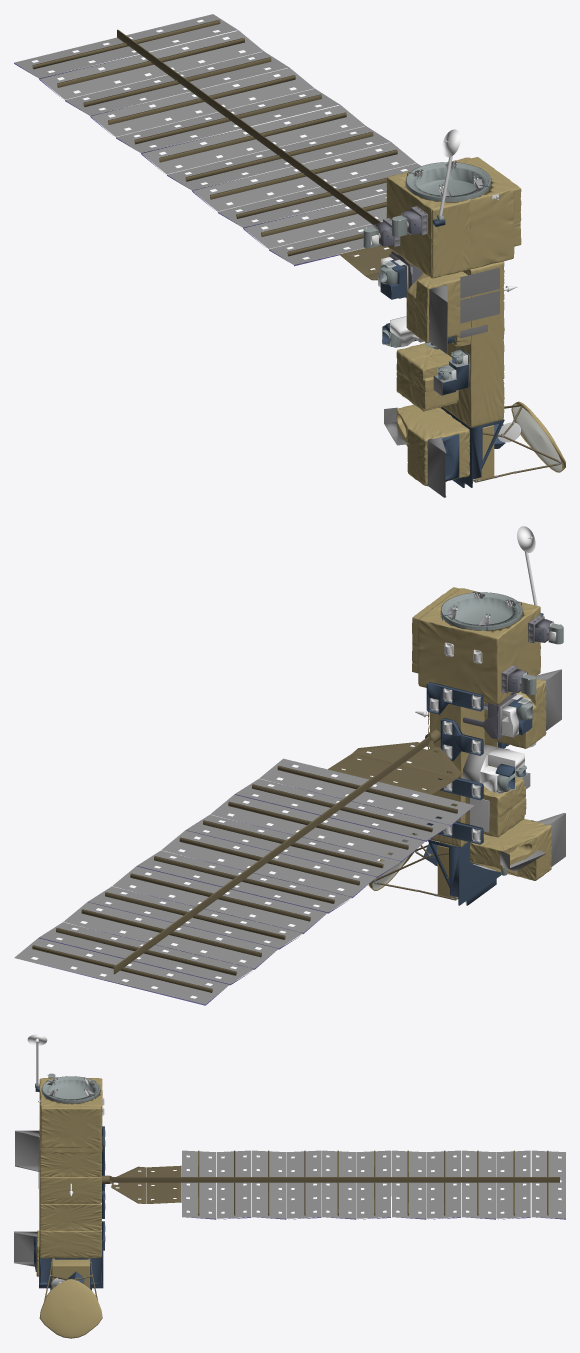
File: aqua-a.glb
The picture shows the model from 3 angles, top to bottom: view 1: azimuth 30°, elevation 25°; view 2: azimuth 150°, elevation 25°; view 3: azimuth 270°, elevation 25°; orthographic projection. The views are drawn at different scales.
Parts seen in each view (by area): view 1: Aqua_Reduced_v0014 [Aqua_Layered_02 [Layer2]], Aqua_Reduced_v0014 [Aqua_Layered_02 [Layer3]], Aqua_Reduced_v0014 [Aqua_Layered_02 [Layer22]], Aqua_Reduced_v0014 [Aqua_Layered_02 [(unnamed)]], Aqua_Reduced_v0014 [Aqua_Layered_02 [Layer10]], Aqua_Reduced_v0014 [Aqua_Layered_02 [Layer9]], Aqua_Reduced_v0014 [Aqua_Layered_02 [Layer19]], Aqua_Reduced_v0014 [Aqua_Layered_02 [Layer20]], Aqua_Reduced_v0014 [Aqua_Layered_02 [Layer21]], Aqua_Reduced_v0014 [Aqua_Layered_02 [Layer14]], Aqua_Reduced_v0014 [Aqua_Layered_02 [Layer18]], Aqua_Reduced_v0014 [Aqua_Layered_02 [Layer16]] (+4 smaller); view 2: Aqua_Reduced_v0014 [Aqua_Layered_02 [Layer2]], Aqua_Reduced_v0014 [Aqua_Layered_02 [Layer3]], Aqua_Reduced_v0014 [Aqua_Layered_02 [Layer22]], Aqua_Reduced_v0014 [Aqua_Layered_02 [Layer9]], Aqua_Reduced_v0014 [Aqua_Layered_02 [Layer10]], Aqua_Reduced_v0014 [Aqua_Layered_02 [Layer19]], Aqua_Reduced_v0014 [Aqua_Layered_02 [Layer16]], Aqua_Reduced_v0014 [Aqua_Layered_02 [Layer4]], Aqua_Reduced_v0014 [Aqua_Layered_02 [Layer14]], Aqua_Reduced_v0014 [Aqua_Layered_02 [Layer17]], Aqua_Reduced_v0014 [Aqua_Layered_02 [(unnamed)]], Aqua_Reduced_v0014 [Aqua_Layered_02 [Layer20]] (+3 smaller); view 3: Aqua_Reduced_v0014 [Aqua_Layered_02 [Layer2]], Aqua_Reduced_v0014 [Aqua_Layered_02 [Layer23]], Aqua_Reduced_v0014 [Aqua_Layered_02 [Layer3]], Aqua_Reduced_v0014 [Aqua_Layered_02 [Layer22]], Aqua_Reduced_v0014 [Layer26], Aqua_Reduced_v0014 [Aqua_Layered_02 [Layer14]], Aqua_Reduced_v0014 [Aqua_Layered_02 [Layer9]], Aqua_Reduced_v0014 [Aqua_Layered_02 [Layer10]], Aqua_Reduced_v0014 [Layer24], Aqua_Reduced_v0014 [Aqua_Layered_02 [Layer16]], Aqua_Reduced_v0014 [Aqua_Layered_02 [(unnamed)]], Aqua_Reduced_v0014 [Aqua_Layered_02 [Layer4]].
Boxes of the visible parts, x1,y1,x2,y2 form: Aqua_Reduced_v0014 [Aqua_Layered_02 [Layer2]]: (14,14,421,264); Aqua_Reduced_v0014 [Aqua_Layered_02 [Layer3]]: (32,20,422,280); Aqua_Reduced_v0014 [Aqua_Layered_02 [Layer22]]: (386,157,521,278); Aqua_Reduced_v0014 [Aqua_Layered_02 [(unnamed)]]: (429,262,503,427); Aqua_Reduced_v0014 [Aqua_Layered_02 [Layer10]]: (363,162,490,484); Aqua_Reduced_v0014 [Aqua_Layered_02 [Layer9]]: (380,172,505,487); Aqua_Reduced_v0014 [Aqua_Layered_02 [Layer19]]: (396,404,469,486); Aqua_Reduced_v0014 [Aqua_Layered_02 [Layer20]]: (396,343,458,411); Aqua_Reduced_v0014 [Aqua_Layered_02 [Layer21]]: (406,271,471,346); Aqua_Reduced_v0014 [Aqua_Layered_02 [Layer14]]: (384,285,447,497); Aqua_Reduced_v0014 [Aqua_Layered_02 [Layer18]]: (460,267,499,338); Aqua_Reduced_v0014 [Aqua_Layered_02 [Layer16]]: (371,129,521,442); Aqua_Reduced_v0014 [Aqua_Layered_02 [Layer2]]: (14,758,474,1004); Aqua_Reduced_v0014 [Aqua_Layered_02 [Layer3]]: (32,729,461,992); Aqua_Reduced_v0014 [Aqua_Layered_02 [Layer22]]: (412,587,540,704); Aqua_Reduced_v0014 [Aqua_Layered_02 [Layer9]]: (423,602,545,905); Aqua_Reduced_v0014 [Aqua_Layered_02 [Layer10]]: (441,592,563,901); Aqua_Reduced_v0014 [Aqua_Layered_02 [Layer19]]: (469,819,551,880); Aqua_Reduced_v0014 [Aqua_Layered_02 [Layer16]]: (415,526,556,842); Aqua_Reduced_v0014 [Aqua_Layered_02 [Layer4]]: (36,783,471,1005); Aqua_Reduced_v0014 [Aqua_Layered_02 [Layer14]]: (500,669,565,871); Aqua_Reduced_v0014 [Aqua_Layered_02 [Layer17]]: (430,621,561,871); Aqua_Reduced_v0014 [Aqua_Layered_02 [(unnamed)]]: (430,702,494,847); Aqua_Reduced_v0014 [Aqua_Layered_02 [Layer20]]: (465,777,526,837); Aqua_Reduced_v0014 [Aqua_Layered_02 [Layer2]]: (182,1150,565,1218); Aqua_Reduced_v0014 [Aqua_Layered_02 [Layer23]]: (40,1151,101,1257); Aqua_Reduced_v0014 [Aqua_Layered_02 [Layer3]]: (101,1150,559,1215); Aqua_Reduced_v0014 [Aqua_Layered_02 [Layer22]]: (39,1078,102,1153); Aqua_Reduced_v0014 [Layer26]: (39,1279,102,1338); Aqua_Reduced_v0014 [Aqua_Layered_02 [Layer14]]: (14,1130,39,1266); Aqua_Reduced_v0014 [Aqua_Layered_02 [Layer9]]: (33,1080,104,1290); Aqua_Reduced_v0014 [Aqua_Layered_02 [Layer10]]: (35,1073,100,1261); Aqua_Reduced_v0014 [Layer24]: (52,1259,89,1288); Aqua_Reduced_v0014 [Aqua_Layered_02 [Layer16]]: (27,1034,88,1287); Aqua_Reduced_v0014 [Aqua_Layered_02 [(unnamed)]]: (39,1139,100,1258); Aqua_Reduced_v0014 [Aqua_Layered_02 [Layer4]]: (186,1151,565,1219).
Bounding box in the file's own units: 124 × 230 × 434.
